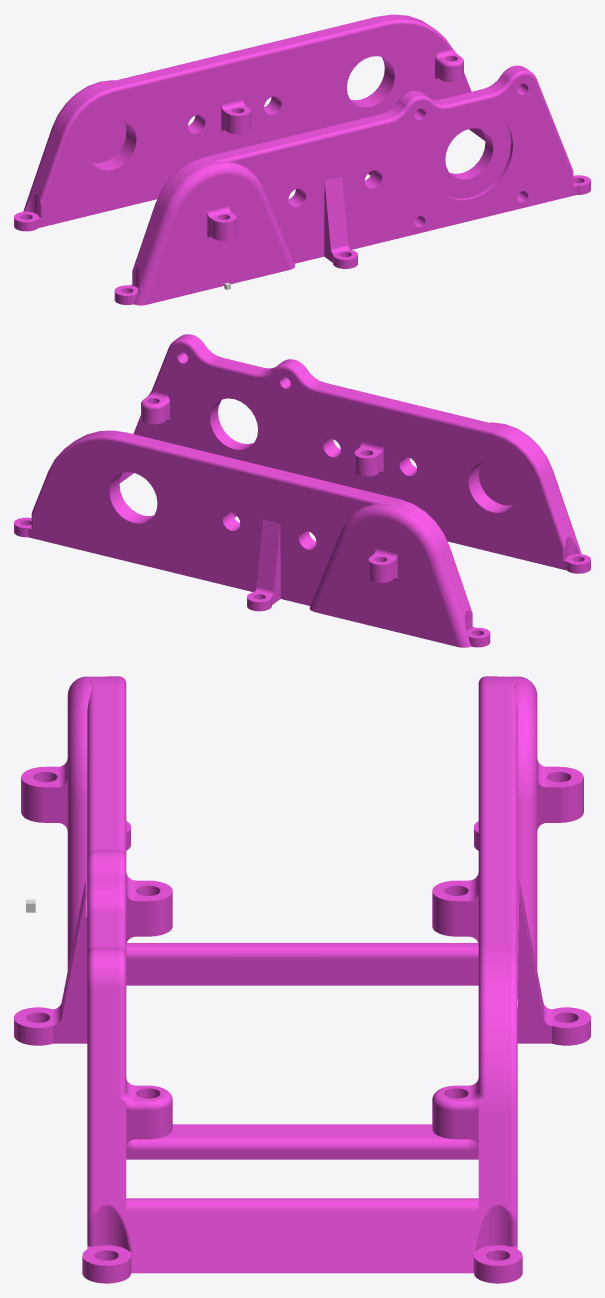
The model's file is girkassi_3dprintt.gltf.
3 views of the same model, one above another, from view 1: azimuth 30°, elevation 25°; view 2: azimuth 150°, elevation 25°; view 3: azimuth 270°, elevation 25° (orthographic). The views are drawn at different scales.
Parts seen in each view (by area): view 1: Girkassi_3Dprint; view 2: Girkassi_3Dprint; view 3: Girkassi_3Dprint.
Boxes of the visible parts, x1=… form: Girkassi_3Dprint: x1=14, y1=14, x2=590, y2=305; Girkassi_3Dprint: x1=14, y1=334, x2=590, y2=647; Girkassi_3Dprint: x1=14, y1=676, x2=590, y2=1283.
Size of the model in its own units: 217 by 59.67 by 118.
